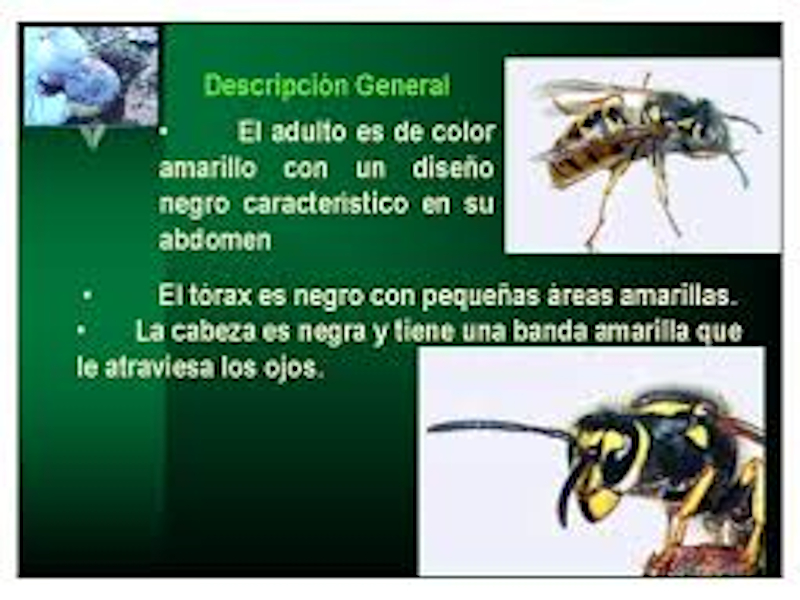chax: (430, 359, 765, 575), (526, 67, 761, 234)
